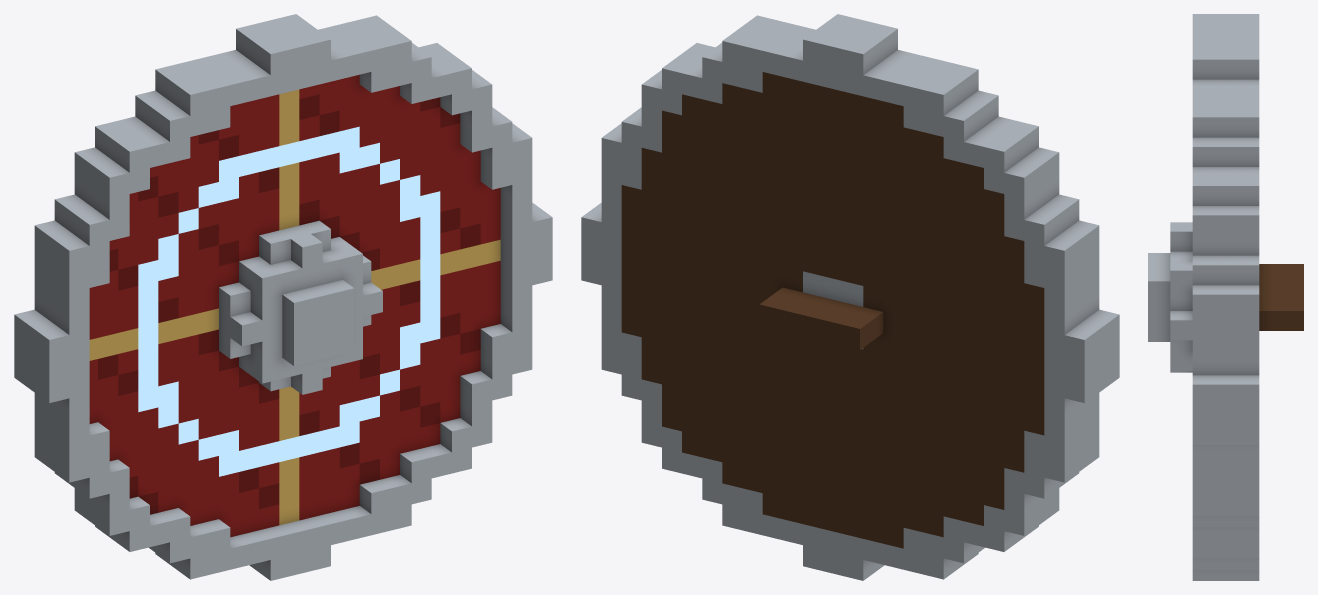
Rendered from gladius_shield_rare.glb.
3 renders of one model, left to right at view 1: azimuth 30°, elevation 25°; view 2: azimuth 150°, elevation 25°; view 3: azimuth 270°, elevation 25°, orthographic. The views are drawn at different scales.
Visible parts, largest first — view 1: gladius_shield_rare_body; view 2: gladius_shield_rare_body; view 3: gladius_shield_rare_body.
Boxes of the visible parts, x1,y1,x2,y2 form: gladius_shield_rare_body: [14, 14, 552, 580]; gladius_shield_rare_body: [581, 14, 1119, 580]; gladius_shield_rare_body: [1148, 14, 1303, 580].
Size of the model in its own units: 0.9766 by 0.9766 by 0.2734.
1 material, 1 textured.
